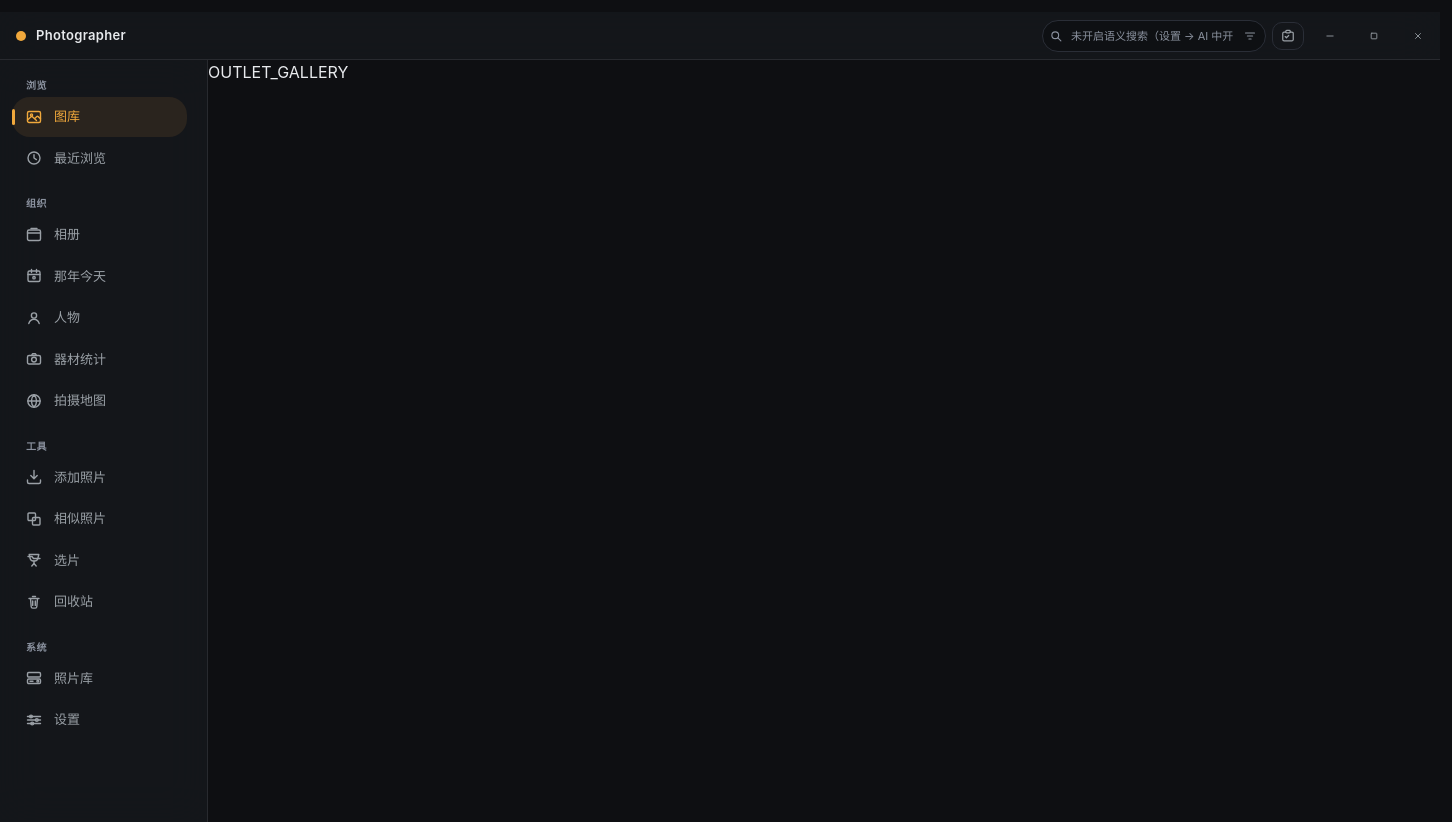
Scenario: AppShell › 路由切换后 Outlet 内容替换为新页面
The width and height of the screenshot is (1452, 822).
Expected: the text "OUTLET_GALLERY" is shown, left=208, top=62, right=348, bottom=82
Click the link "设置".
click(53, 719)  # box left=26, top=711, right=80, bottom=728
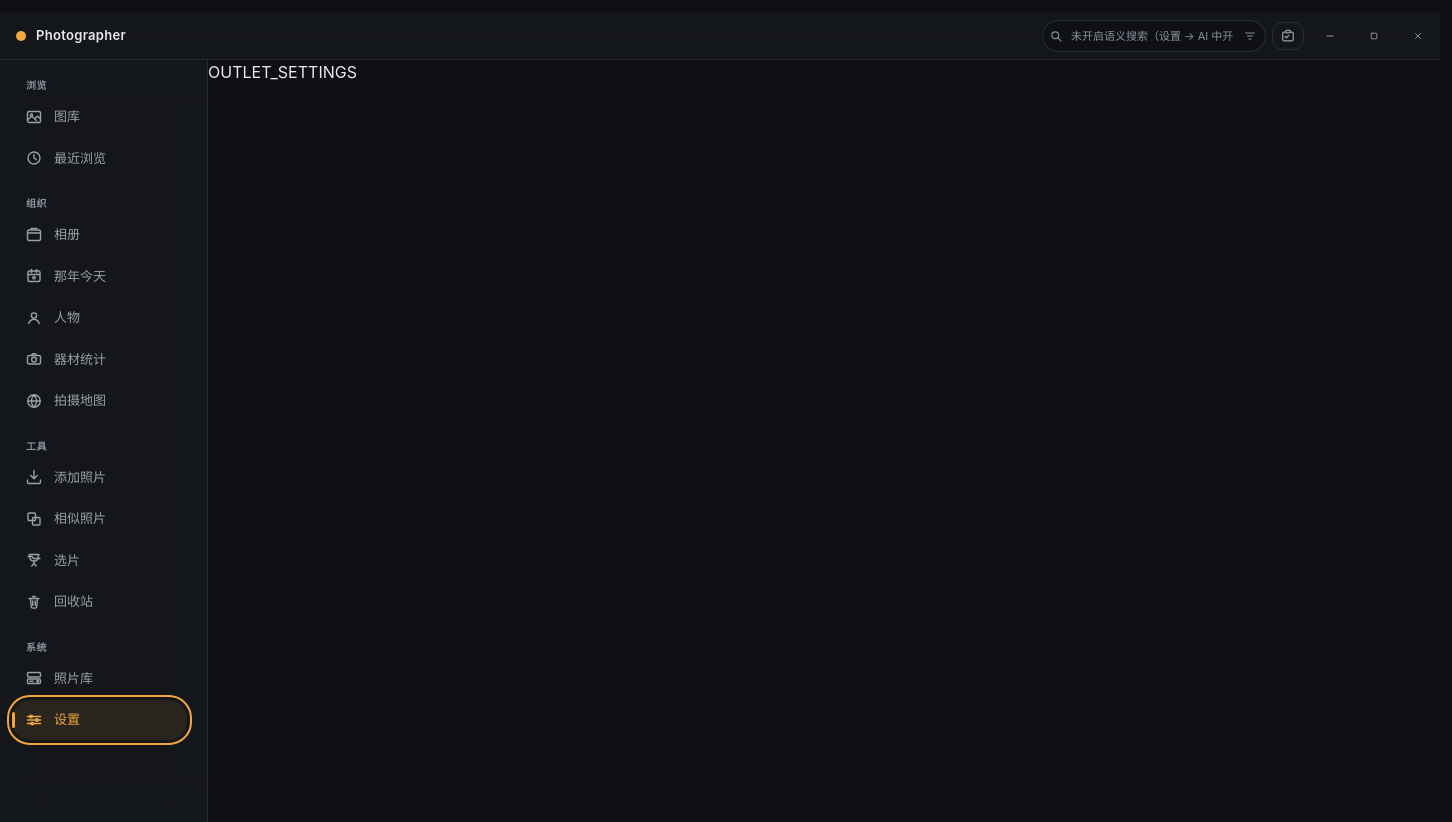
Expected: the text "OUTLET_SETTINGS" is shown, left=208, top=62, right=357, bottom=82
Expected: the text "OUTLET_GALLERY" is gone
